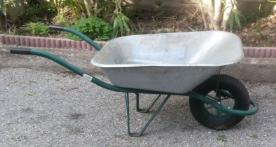BROUETTE: (6, 24, 268, 141)
